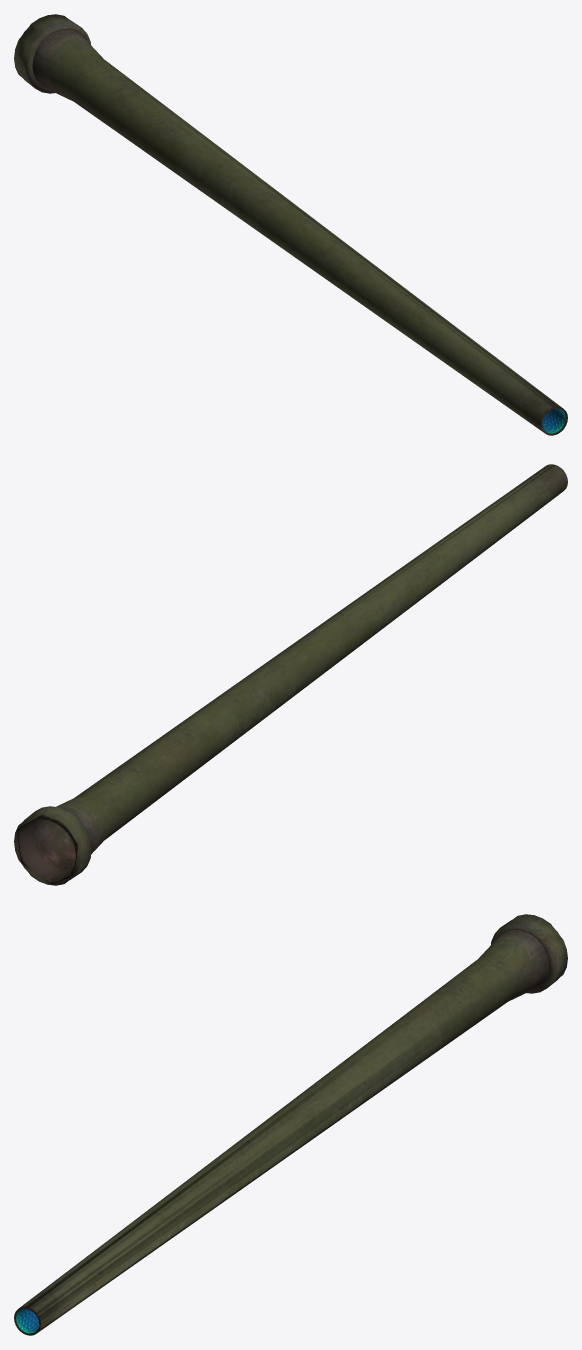
File: barrel-t44-100mm.glb
3 renders of one model, top to bottom at view 1: azimuth 30°, elevation 25°; view 2: azimuth 150°, elevation 25°; view 3: azimuth 330°, elevation 25°, orthographic.
Visible parts, largest first — view 1: Object_11; view 2: Object_11; view 3: Object_11.
Part boxes in pixels (bbox=[...]): Object_11: bbox=[14, 14, 567, 435]; Object_11: bbox=[14, 464, 567, 885]; Object_11: bbox=[14, 914, 567, 1335].
Bounding box in the file's own units: 0.2715 × 0.2703 × 3.54.
Materials: 2 (2 with a texture image).
